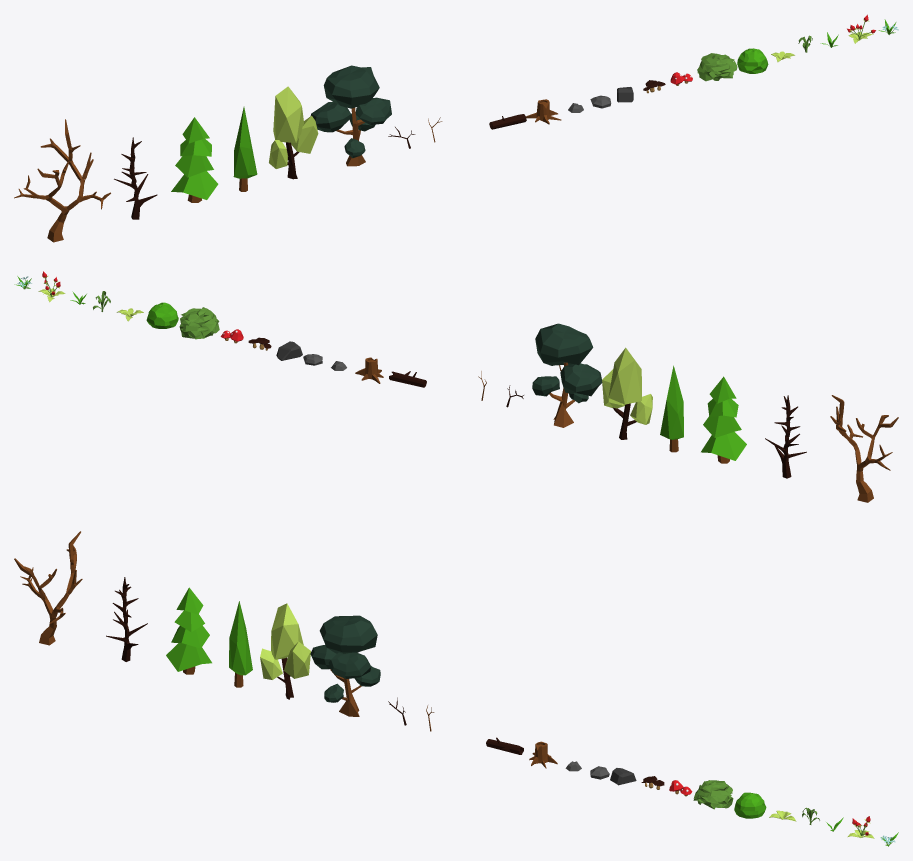
File: naturePack.glb
3 renders of one model, top to bottom at view 1: azimuth 30°, elevation 25°; view 2: azimuth 150°, elevation 25°; view 3: azimuth 330°, elevation 25°, orthographic.
Visible parts, largest first — view 1: Tree.004, Tree 003, Tree.001, Dead tree 1, Tree 002, Bush 1, Dead tree 2, Bush 2; view 2: Tree.004, Tree 003, Tree.001, Dead tree 1, Tree 002, Bush 1, Dead tree 2, Bush 2; view 3: Tree.004, Tree 003, Tree.001, Dead tree 1, Tree 002, Bush 1, Dead tree 2, Bush 2.
Part boxes in pixels (box(x1,y1,x2,y2)): Tree.004: box(310, 65, 391, 166); Tree 003: box(269, 86, 318, 179); Tree.001: box(171, 117, 218, 202); Dead tree 1: box(14, 119, 110, 242); Tree 002: box(233, 106, 257, 191); Bush 1: box(697, 53, 737, 81); Dead tree 2: box(114, 137, 157, 219); Bush 2: box(737, 48, 768, 73); Tree.004: box(532, 323, 602, 427); Tree 003: box(602, 347, 652, 439); Tree.001: box(701, 376, 746, 463); Dead tree 1: box(830, 395, 898, 502); Tree 002: box(660, 365, 683, 452); Bush 1: box(179, 307, 219, 339); Dead tree 2: box(765, 395, 806, 478); Bush 2: box(146, 302, 178, 328); Tree.004: box(310, 615, 380, 716); Tree 003: box(260, 603, 310, 699); Tree.001: box(166, 587, 211, 674); Dead tree 1: box(14, 531, 82, 645); Tree 002: box(229, 601, 252, 687); Bush 1: box(693, 780, 733, 809); Dead tree 2: box(106, 577, 147, 661); Bush 2: box(734, 792, 766, 818).
Size of the model in its own units: 152 by 17.66 by 11.78.
